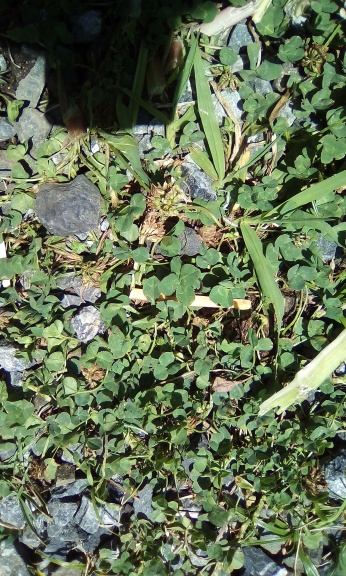4leaf: (157, 256, 200, 307)
